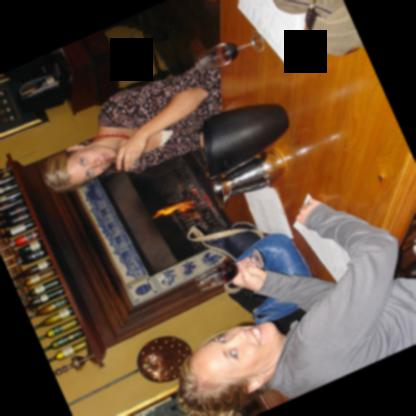handbag: (240, 231, 313, 324), (273, 0, 363, 55), (186, 219, 264, 262)
